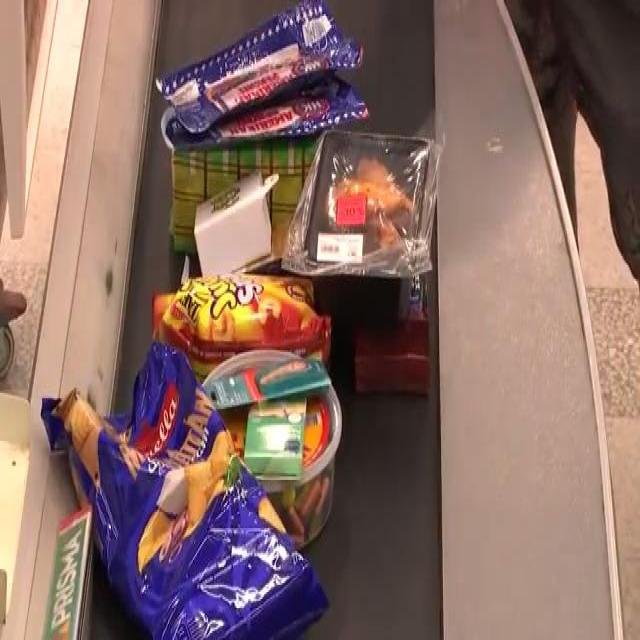food-box: (60, 367, 319, 636), (296, 121, 454, 325), (192, 11, 367, 160), (212, 349, 338, 542), (155, 272, 334, 363)
utility-box: (203, 172, 271, 270)
